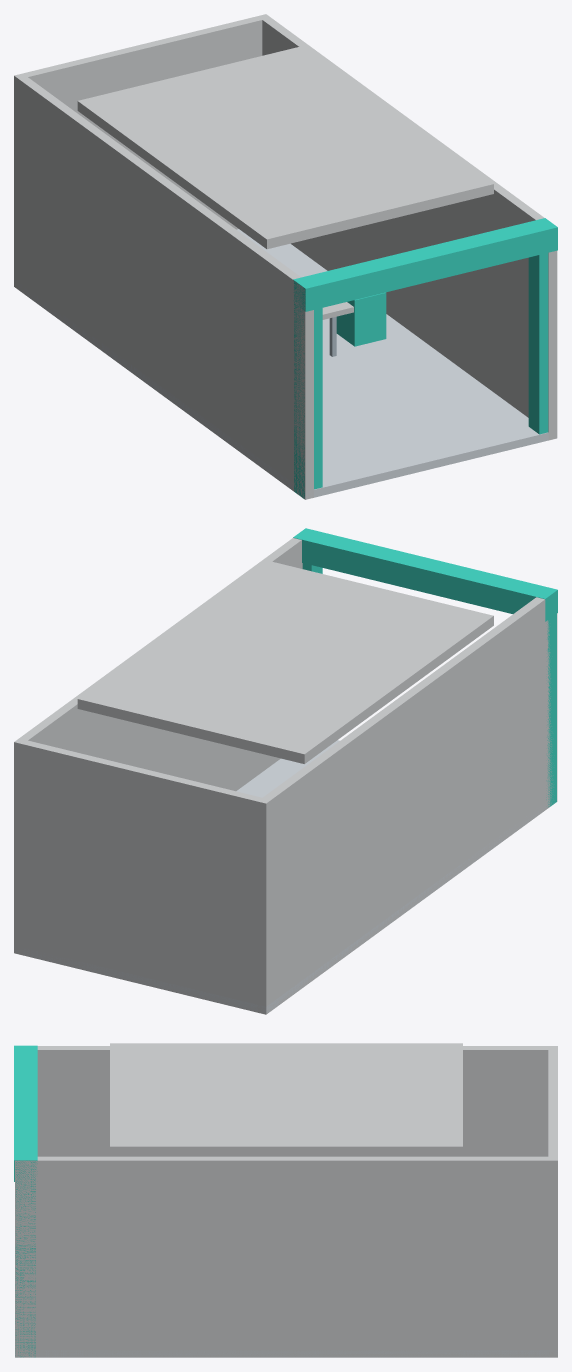
The picture shows the model from 3 angles, top to bottom: view 1: azimuth 30°, elevation 25°; view 2: azimuth 150°, elevation 25°; view 3: azimuth 270°, elevation 25°; orthographic projection. The views are drawn at different scales.
Parts seen in each view (by area): view 1: Exhibition Booth Concept; view 2: Exhibition Booth Concept; view 3: Exhibition Booth Concept.
Boxes of the visible parts, x1,y1,x2,y2 form: Exhibition Booth Concept: [14, 14, 557, 499]; Exhibition Booth Concept: [14, 528, 557, 1014]; Exhibition Booth Concept: [14, 1043, 557, 1357].
Bounding box in the file's own units: 4 × 3.34 × 8.01.
